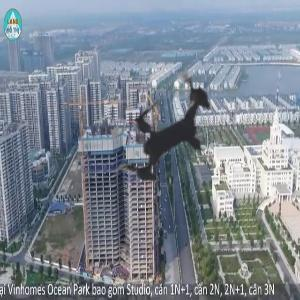drone: (70, 41, 263, 234)
